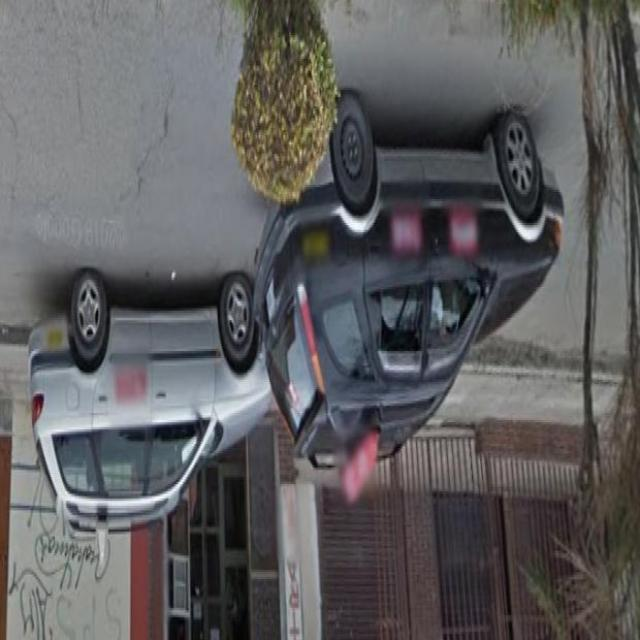car: (260, 68, 560, 474), (32, 280, 258, 533)
